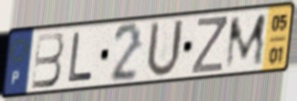2: (109, 20, 147, 87)
B: (30, 30, 66, 91)
L: (66, 30, 94, 85)
M: (223, 11, 268, 72)
U: (144, 18, 186, 80)
Z: (190, 15, 229, 76)
